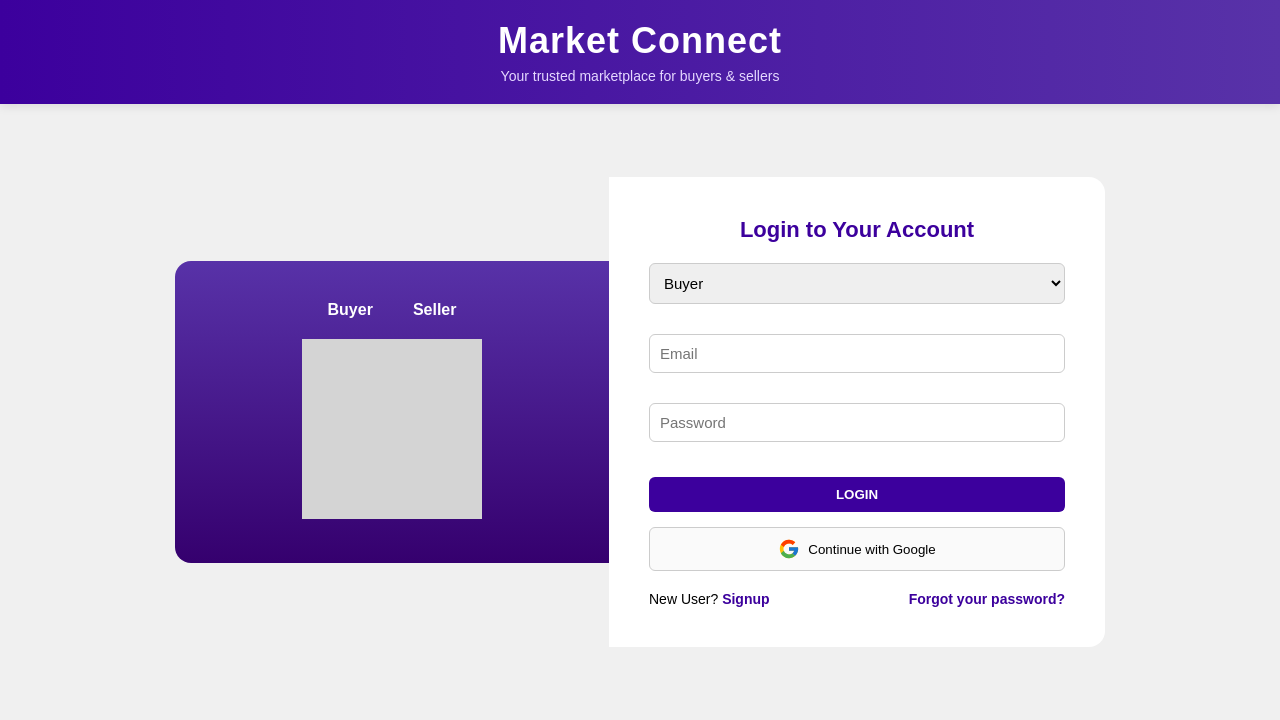
Login › requires email and password
Step 1. Click the button "LOGIN" → point(857, 494), box left=649, top=477, right=1065, bottom=512
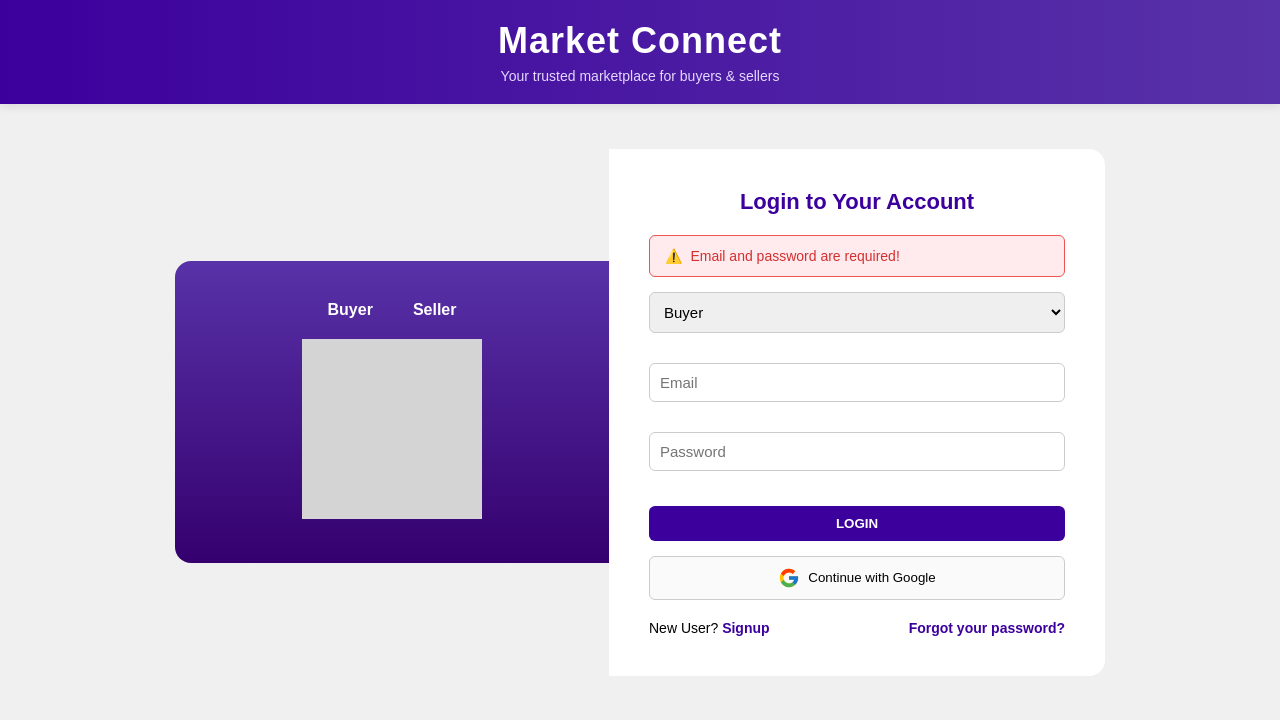
Result: the text "Email and password are required!" is shown at left=690, top=248, right=900, bottom=264
